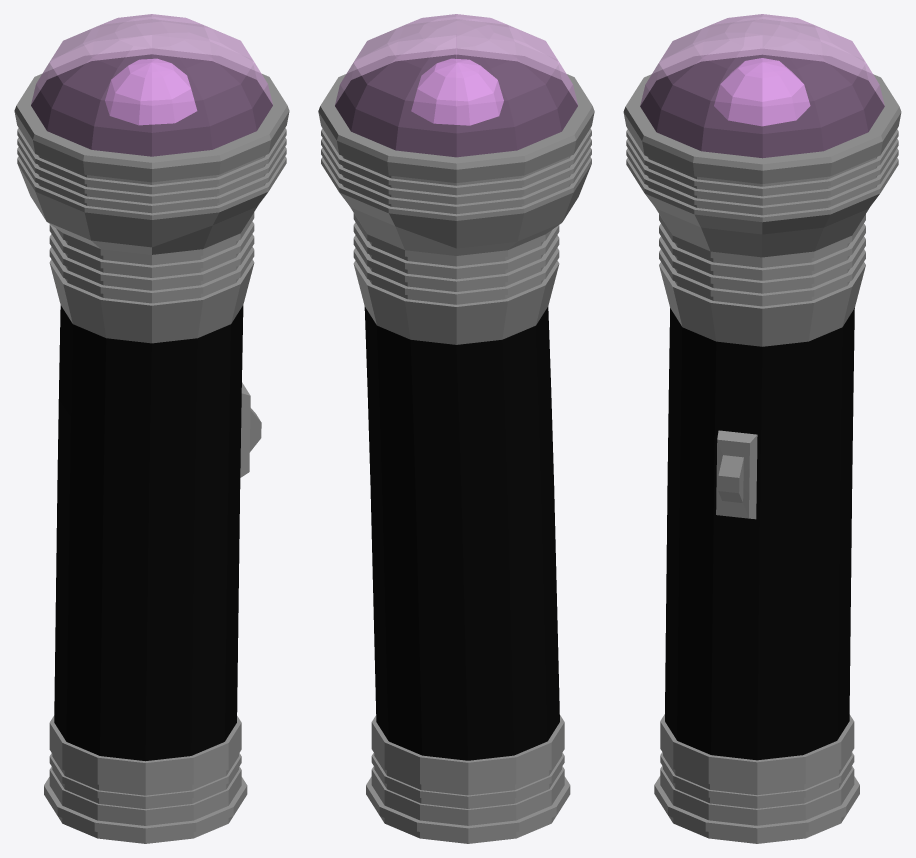
File: flashlight.fbx
3 views of the same model, side by side, from view 1: azimuth 30°, elevation 25°; view 2: azimuth 150°, elevation 25°; view 3: azimuth 270°, elevation 25° (orthographic).
Visible parts, largest first — view 1: Cylinder, Cylinder.001; view 2: Cylinder, Cylinder.001; view 3: Cylinder, Cylinder.001.
Part boxes in pixels (bbox=[...]): Cylinder: bbox=[14, 48, 289, 843]; Cylinder.001: bbox=[31, 14, 272, 156]; Cylinder: bbox=[318, 49, 594, 843]; Cylinder.001: bbox=[335, 14, 577, 157]; Cylinder: bbox=[623, 49, 901, 843]; Cylinder.001: bbox=[640, 14, 884, 158].
Size of the model in its own units: 75.26 by 233 by 75.26.
